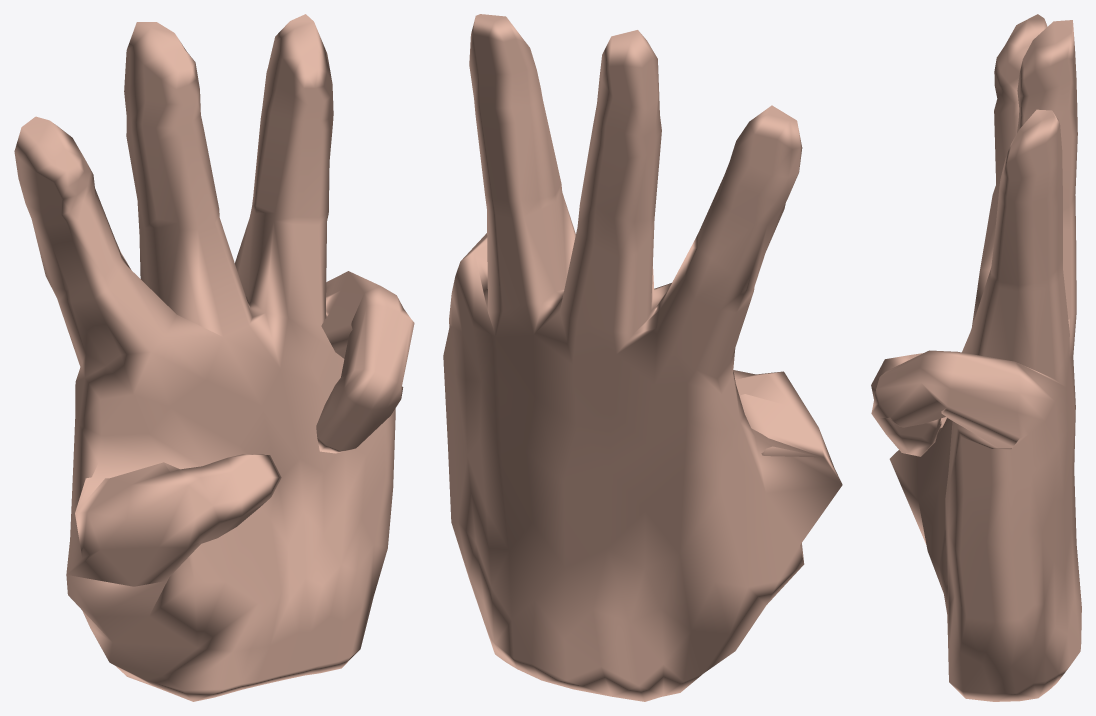
Rendered from MAO_3_6.obj.
The picture shows the model from 3 angles, left to right: view 1: azimuth 30°, elevation 25°; view 2: azimuth 150°, elevation 25°; view 3: azimuth 270°, elevation 25°; orthographic projection. The views are drawn at different scales.
Parts seen in each view (by area): view 1: mao_dir polySurface1; view 2: mao_dir polySurface1; view 3: mao_dir polySurface1.
Boxes of the visible parts, <box> form: mao_dir polySurface1: <box>14,14,414,701</box>; mao_dir polySurface1: <box>443,14,842,701</box>; mao_dir polySurface1: <box>871,14,1081,701</box>.
Bounding box in the file's own units: 139 × 242 × 75.59.
